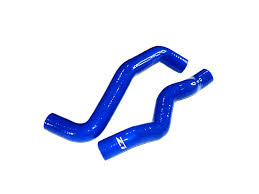radiator_hose: (43, 46, 187, 142), (98, 69, 213, 160)
